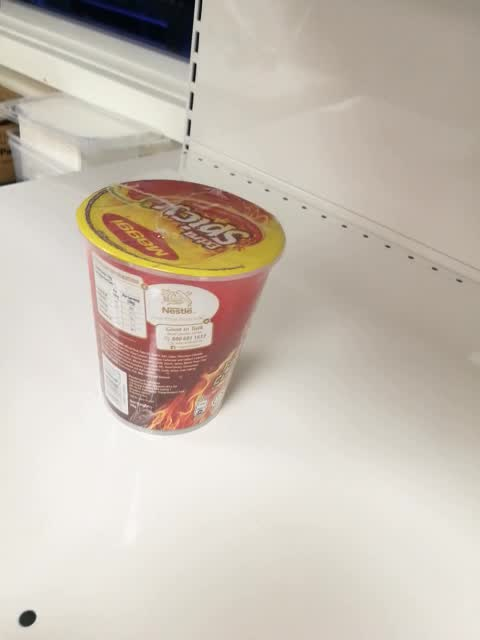maggi: (75, 178, 288, 436)
